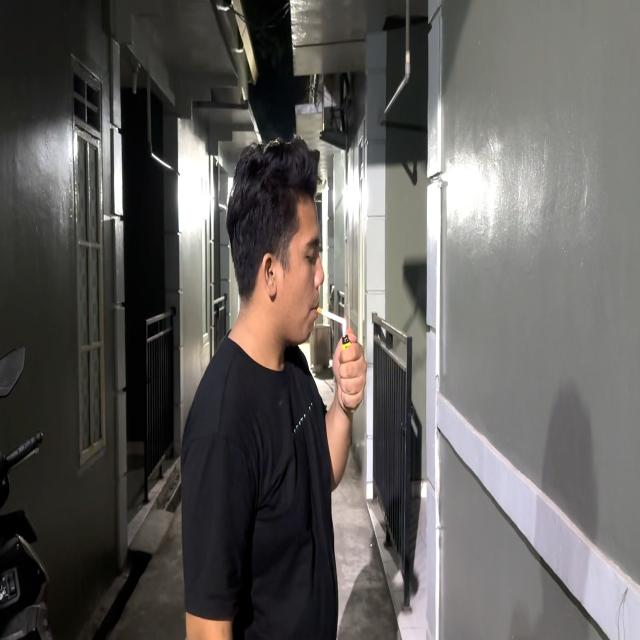cigarette: (311, 302, 356, 344)
smoking: (228, 119, 378, 499)
